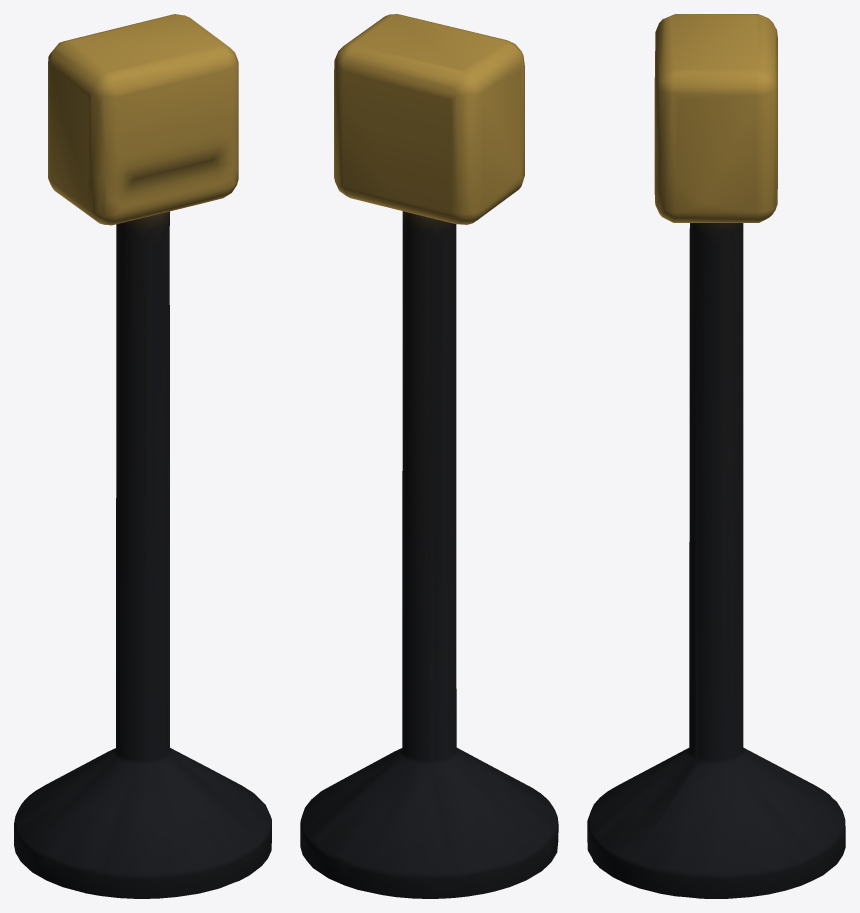
The model's file is lumiere-ticket-dispenser.glb.
3 renders of one model, left to right at view 1: azimuth 30°, elevation 25°; view 2: azimuth 150°, elevation 25°; view 3: azimuth 270°, elevation 25°, orthographic.
Parts seen in each view (by area): view 1: lumiere-ticket-dispenser_LOD0; view 2: lumiere-ticket-dispenser_LOD0; view 3: lumiere-ticket-dispenser_LOD0.
Part boxes in pixels (x1=…): lumiere-ticket-dispenser_LOD0: x1=14, y1=14, x2=271, y2=898; lumiere-ticket-dispenser_LOD0: x1=300, y1=14, x2=558, y2=898; lumiere-ticket-dispenser_LOD0: x1=587, y1=14, x2=845, y2=898.
Size of what is drawn, in the model's own units: 0.3355 by 1.15 by 0.3352.
